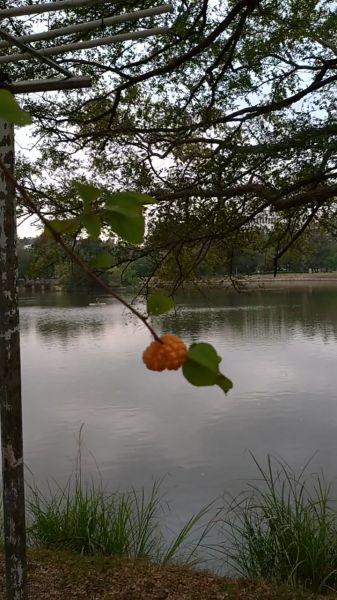eggs: (136, 329, 195, 379)
